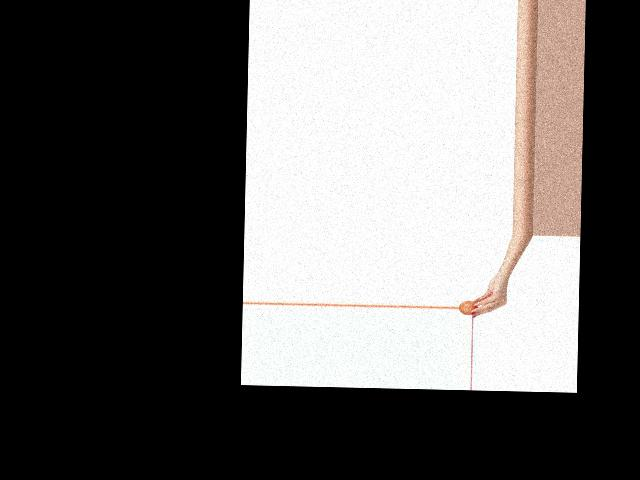egg: (459, 300, 477, 315)
